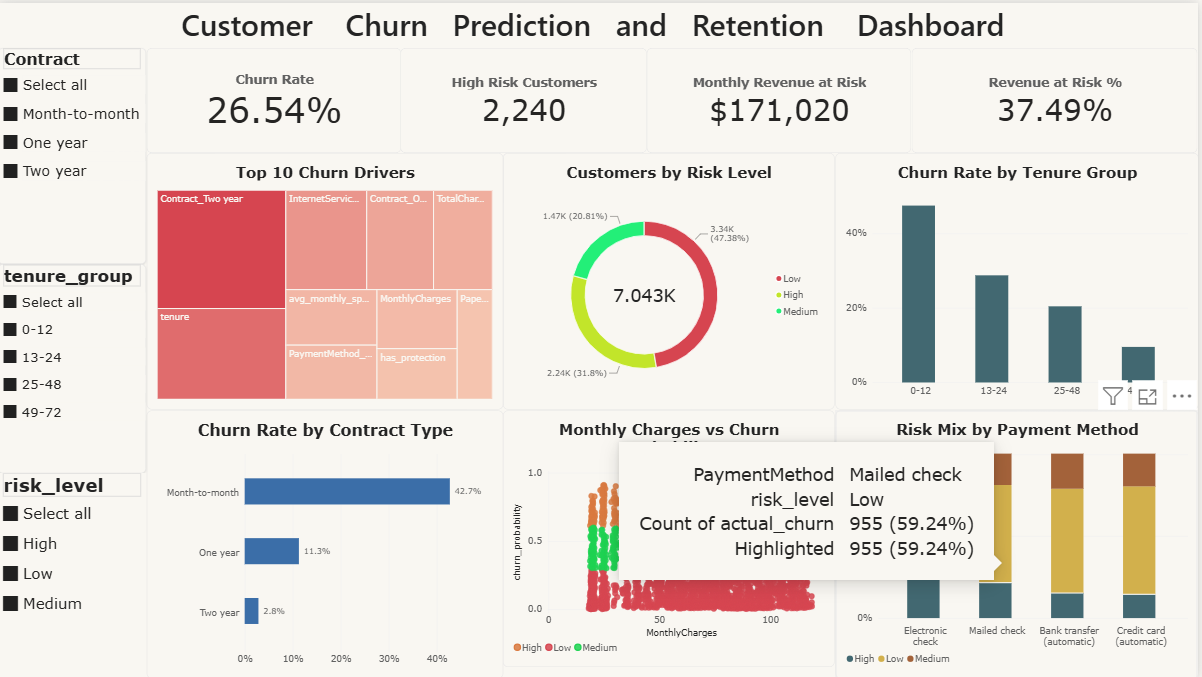

The page's visual inventory and layout, read from the dashboard file:
{"tool":"powerbi","page":{"name":"Page 1","canvas":[1920,1080],"ordinal":0},"visuals":[{"type":"cardVisual","fields":{"Data":["churn_predictions.Churn Rate"]},"box":[237.1,72.4,407.2,168.3],"z":0},{"type":"cardVisual","fields":{"Data":["churn_predictions.High Risk Customers (Full)"]},"box":[644.2,72.4,394.5,168.3],"z":1000},{"type":"cardVisual","fields":{"Data":["churn_predictions.Monthly Revenue at Risk (Full)"]},"box":[1038.7,72.4,423.5,168.3],"z":2000},{"type":"clusteredBarChart","title":"Churn Rate by Contract Type","fields":{"Category":["churn_predictions.Contract"],"Y":["churn_predictions.Churn Rate"]},"box":[237.1,651.5,570,428.9],"z":3000},{"type":"clusteredColumnChart","title":"Churn Rate by Tenure Group","fields":{"Category":["churn_predictions.tenure_group"],"Y":["churn_predictions.Churn Rate"]},"box":[1339.1,240.7,580.9,410.8],"z":4000},{"type":"donutChart","title":"Customers by Risk Level","fields":{"Category":["churn_predictions.risk_level"],"Y":["CountNonNull(churn_predictions.customerID)"]},"box":[807.1,240.7,530.2,410.8],"z":5000},{"type":"treemap","title":"Top 10 Churn Drivers","fields":{"Group":["shap_importance.feature"],"Values":["Sum(shap_importance.mean_abs_shap)"]},"box":[237.1,240.7,570,410.8],"z":6000},{"type":"scatterChart","title":"Monthly Charges vs Churn Probability","fields":{"Series":["churn_predictions.risk_level"],"X":["churn_predictions.MonthlyCharges"],"Y":["churn_predictions.churn_probability"]},"box":[807.1,651.5,530.2,410.8],"z":7000},{"type":"hundredPercentStackedColumnChart","title":"Risk Mix by Payment Method","fields":{"Category":["churn_predictions.PaymentMethod"],"Series":["churn_predictions.risk_level"],"Y":["CountNonNull(churn_predictions.actual_churn)"]},"box":[1339.1,651.5,580.9,428.9],"z":8000},{"type":"cardVisual","fields":{"Data":["churn_predictions.Revenue at Risk %"]},"box":[1462.2,72.4,457.8,168.3],"z":9000},{"type":"textbox","box":[0,72,407,168],"z":10000},{"type":"textbox","box":[0,0,1903.8,72.4],"z":11000},{"type":"slicer","fields":{"Values":["churn_predictions.Contract"]},"box":[0,72.4,237.1,345.6],"z":12000},{"type":"slicer","fields":{"Values":["churn_predictions.tenure_group"]},"box":[0,418,237.1,334.8],"z":13000},{"type":"slicer","fields":{"Values":["churn_predictions.risk_level"]},"box":[0,752.8,237.1,327.5],"z":14000}]}

Visuals, with their boxes in screenshot pixels (x1, y1, x2, y2), scaled from the page's 1920x1080 canvas onto the 1202x677 screenshot:
cardVisual - churn_predictions.Churn Rate: {"left": 148, "top": 45, "right": 403, "bottom": 151}
cardVisual - churn_predictions.High Risk Customers (Full): {"left": 403, "top": 45, "right": 650, "bottom": 151}
cardVisual - churn_predictions.Monthly Revenue at Risk (Full): {"left": 650, "top": 45, "right": 915, "bottom": 151}
"Churn Rate by Contract Type" clusteredBarChart: {"left": 148, "top": 408, "right": 505, "bottom": 676}
"Churn Rate by Tenure Group" clusteredColumnChart: {"left": 838, "top": 151, "right": 1201, "bottom": 408}
"Customers by Risk Level" donutChart: {"left": 505, "top": 151, "right": 837, "bottom": 408}
"Top 10 Churn Drivers" treemap: {"left": 148, "top": 151, "right": 505, "bottom": 408}
"Monthly Charges vs Churn Probability" scatterChart: {"left": 505, "top": 408, "right": 837, "bottom": 666}
"Risk Mix by Payment Method" hundredPercentStackedColumnChart: {"left": 838, "top": 408, "right": 1201, "bottom": 676}
cardVisual - churn_predictions.Revenue at Risk %: {"left": 915, "top": 45, "right": 1201, "bottom": 151}
textbox: {"left": 0, "top": 45, "right": 255, "bottom": 150}
textbox: {"left": 0, "top": 0, "right": 1192, "bottom": 45}
slicer - churn_predictions.Contract: {"left": 0, "top": 45, "right": 148, "bottom": 262}
slicer - churn_predictions.tenure_group: {"left": 0, "top": 262, "right": 148, "bottom": 472}
slicer - churn_predictions.risk_level: {"left": 0, "top": 472, "right": 148, "bottom": 676}
